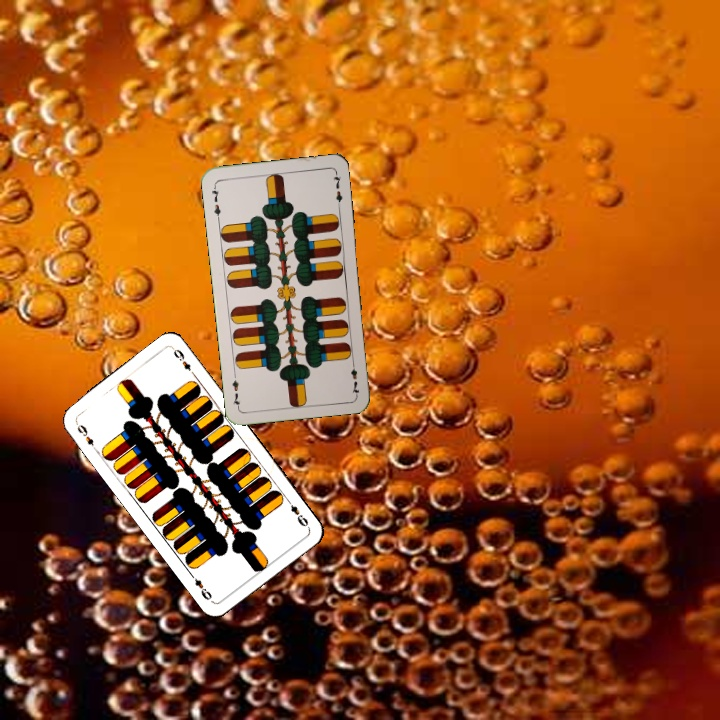E7: (208, 181, 223, 222), (347, 356, 362, 397)
E9: (282, 495, 311, 530), (72, 418, 100, 454)
